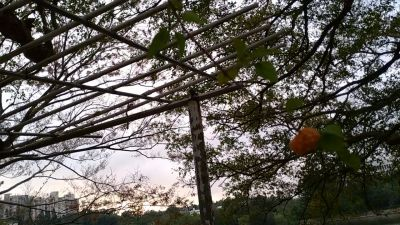eggs: (289, 125, 322, 155)
